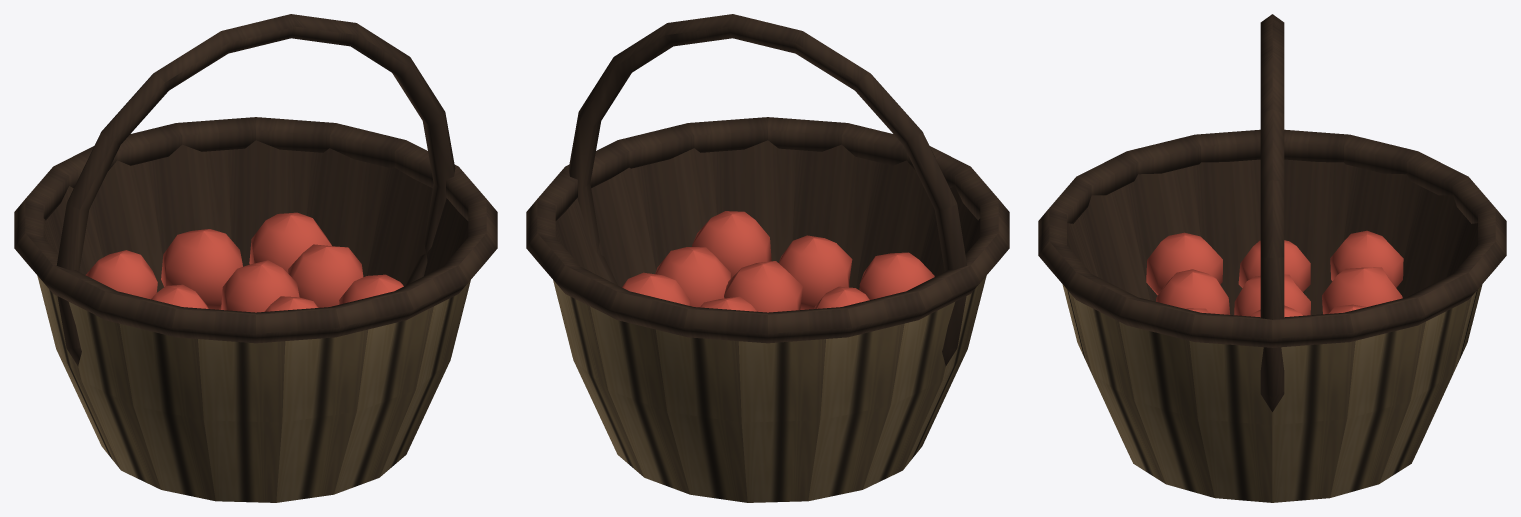
Rendered from basket.gltf.
3 views of the same model, side by side, from view 1: azimuth 30°, elevation 25°; view 2: azimuth 150°, elevation 25°; view 3: azimuth 270°, elevation 25° (orthographic). The views are drawn at different scales.
Visible parts, largest first — view 1: basket_mesh; view 2: basket_mesh; view 3: basket_mesh.
Boxes of the visible parts, x1,y1,x2,y2 form: basket_mesh: (14,14,497,502); basket_mesh: (526,14,1009,502); basket_mesh: (1038,14,1506,502).
Size of what is drawn, in the model's own units: 0.536 by 0.5003 by 0.5279.
3 materials, 2 textured.
